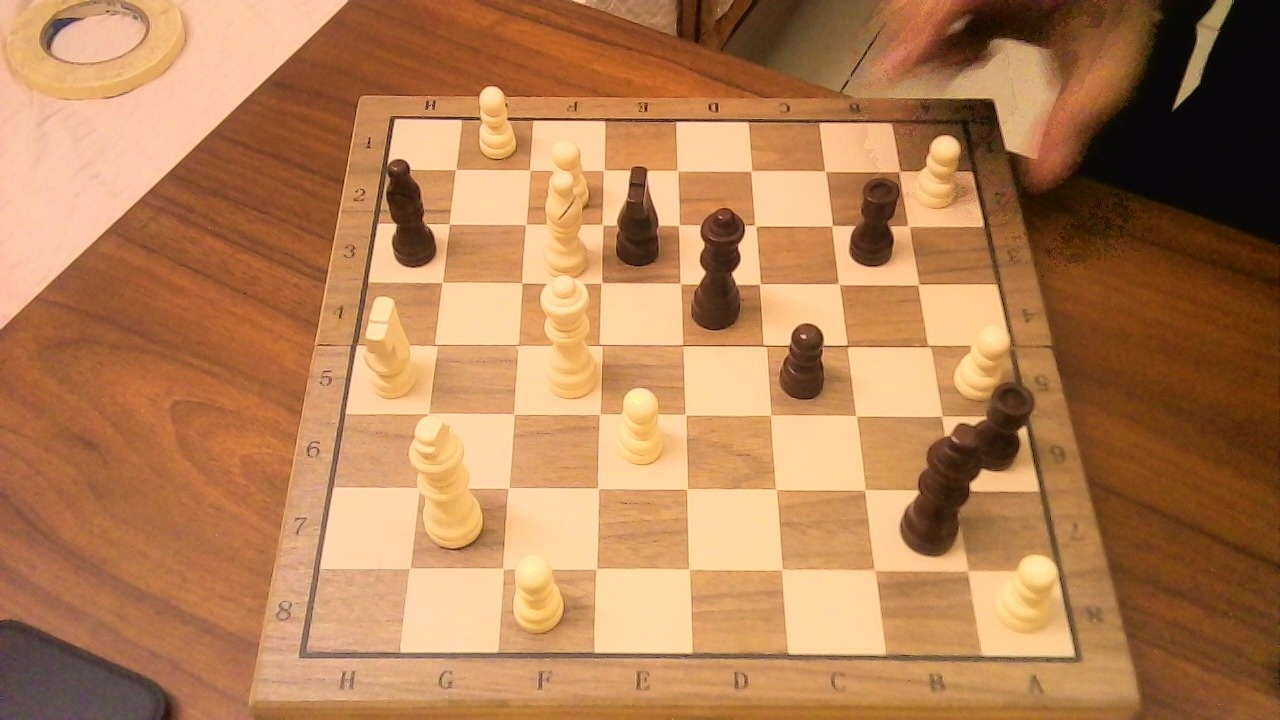B: (532, 160, 596, 278)
K: (405, 403, 493, 552)
N: (353, 324, 422, 404)
P: (989, 544, 1068, 637), (504, 544, 572, 638), (947, 316, 1019, 404), (606, 378, 671, 471), (910, 126, 970, 212), (468, 78, 522, 162), (539, 132, 594, 214)
Q: (528, 263, 602, 404)
b: (378, 147, 443, 271)
k: (894, 409, 994, 564)
n: (608, 154, 672, 270)
p: (775, 314, 837, 403)
q: (687, 196, 761, 334)
r: (961, 370, 1044, 473), (843, 163, 911, 272)
